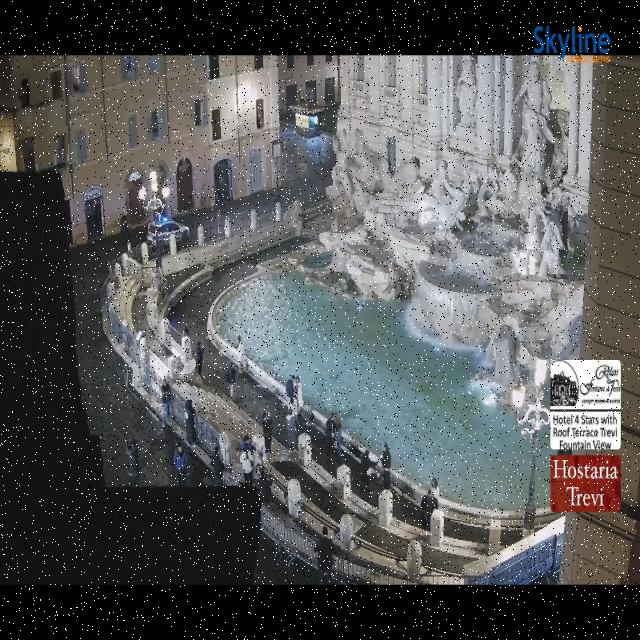person: (314, 528, 338, 584), (360, 450, 377, 494), (421, 489, 438, 531), (258, 464, 273, 504), (184, 399, 196, 448), (174, 442, 187, 487), (240, 448, 254, 487), (211, 446, 223, 487), (161, 378, 171, 425), (381, 444, 391, 489), (262, 411, 272, 452), (287, 409, 297, 450), (326, 413, 335, 456), (226, 363, 235, 401), (335, 415, 342, 457), (237, 336, 245, 371), (295, 377, 303, 410), (196, 342, 203, 377), (286, 376, 295, 403), (240, 436, 255, 452), (290, 398, 299, 424), (432, 478, 439, 498), (183, 326, 188, 336)
